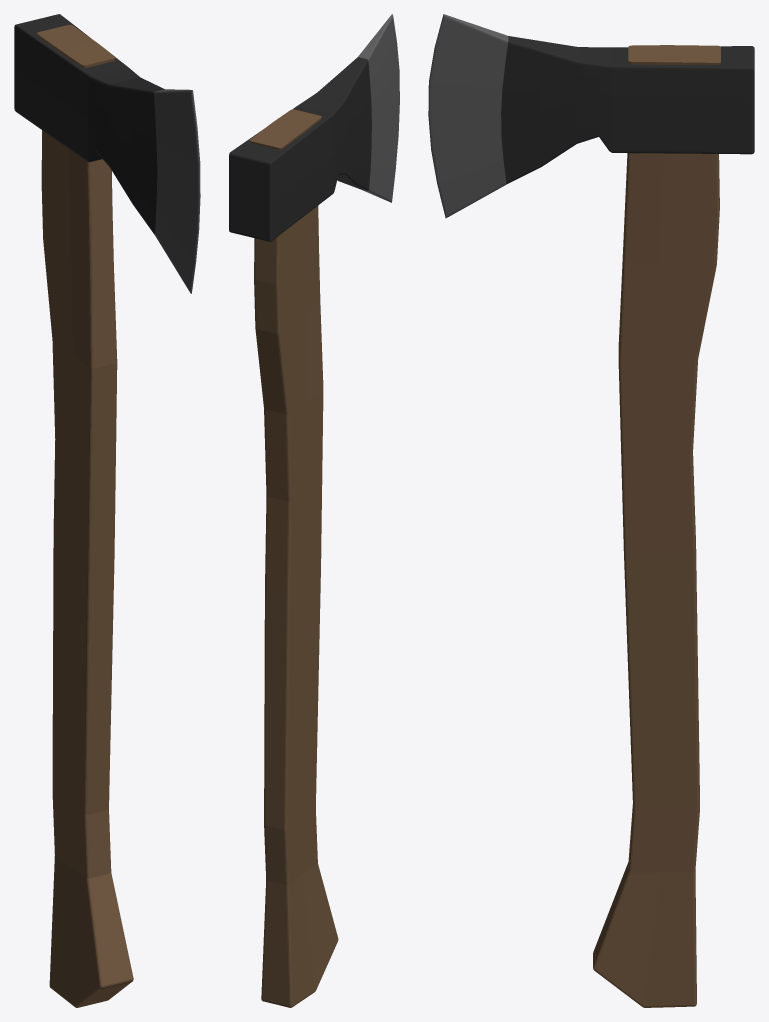
The model's file is axesnufkin.fbx.
3 views of the same model, side by side, from view 1: azimuth 30°, elevation 25°; view 2: azimuth 150°, elevation 25°; view 3: azimuth 270°, elevation 25° (orthographic). The views are drawn at different scales.
Parts seen in each view (by area): view 1: axe; view 2: axe; view 3: axe.
Boxes of the visible parts, box(x1,y1,x2,y2) form: axe: box(14, 14, 200, 1007); axe: box(229, 14, 399, 1007); axe: box(428, 14, 754, 1007).
Size of the model in its own units: 23.07 by 476 by 143.
